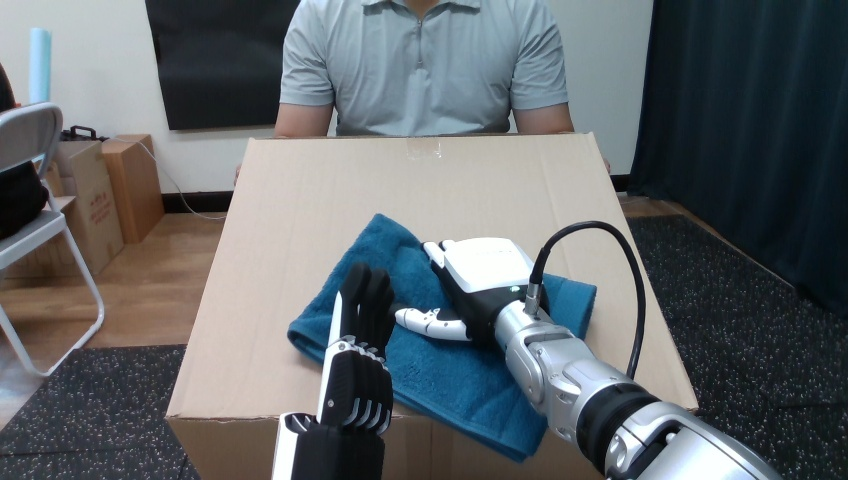left robot hand: (394, 221, 779, 479), (272, 263, 394, 479), (541, 228, 638, 374)
